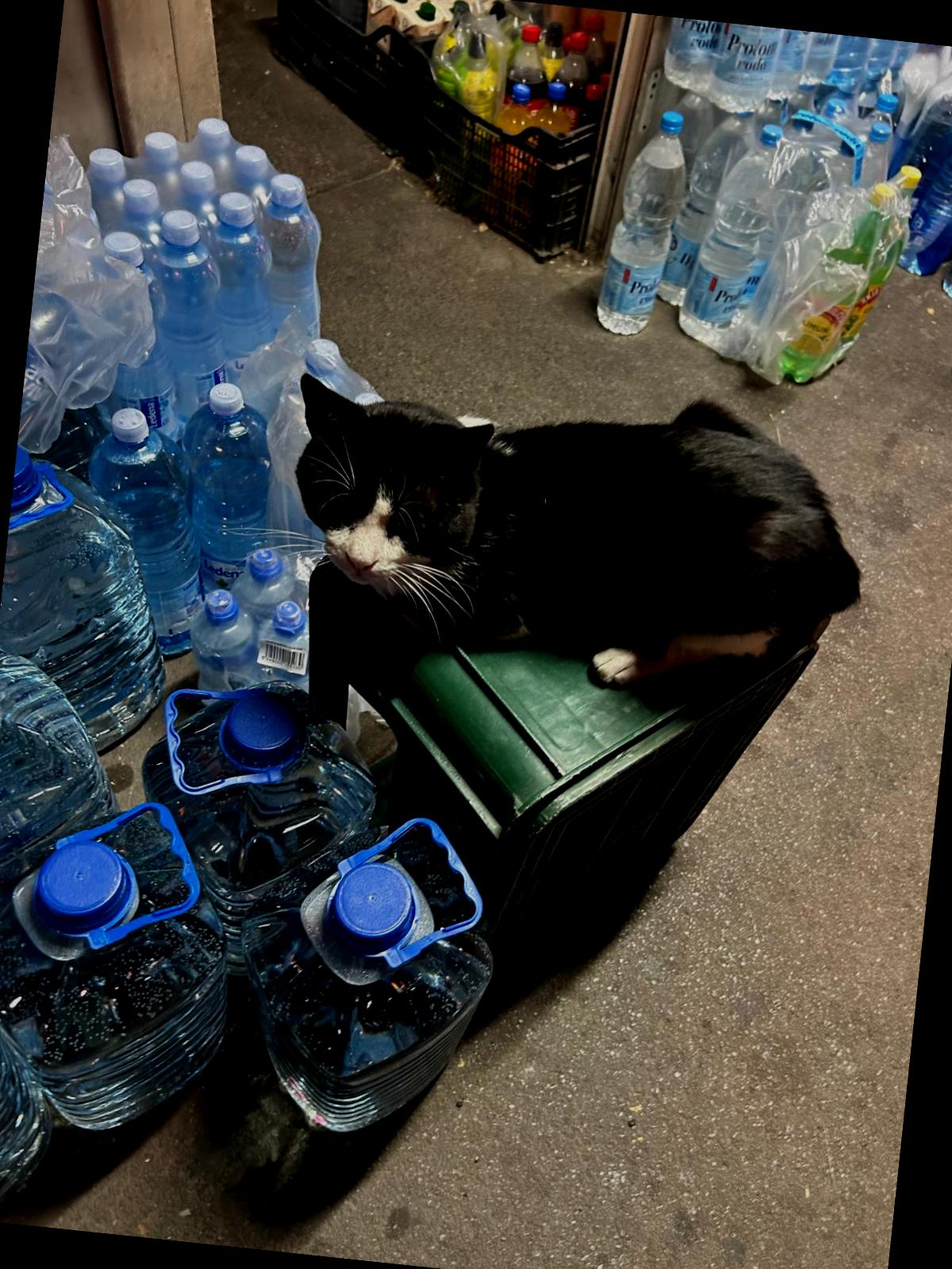macka: (271, 355, 885, 712)
